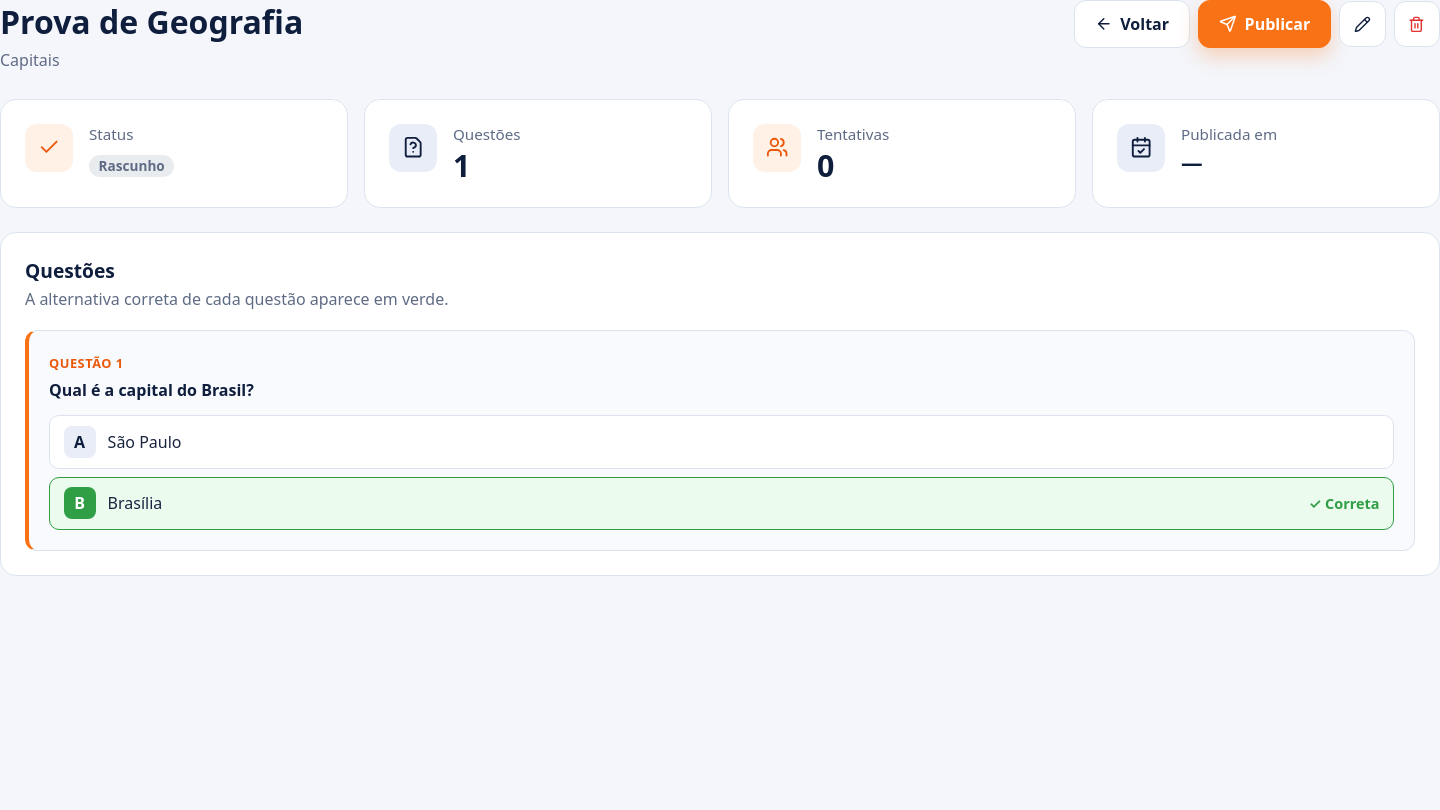
Test case: ExamDetailView › keeps the exam visible and shows the error when deletion fails
The image size is (1440, 810).
Click the button with class "danger": [1417, 24] box [1394, 1, 1439, 47]
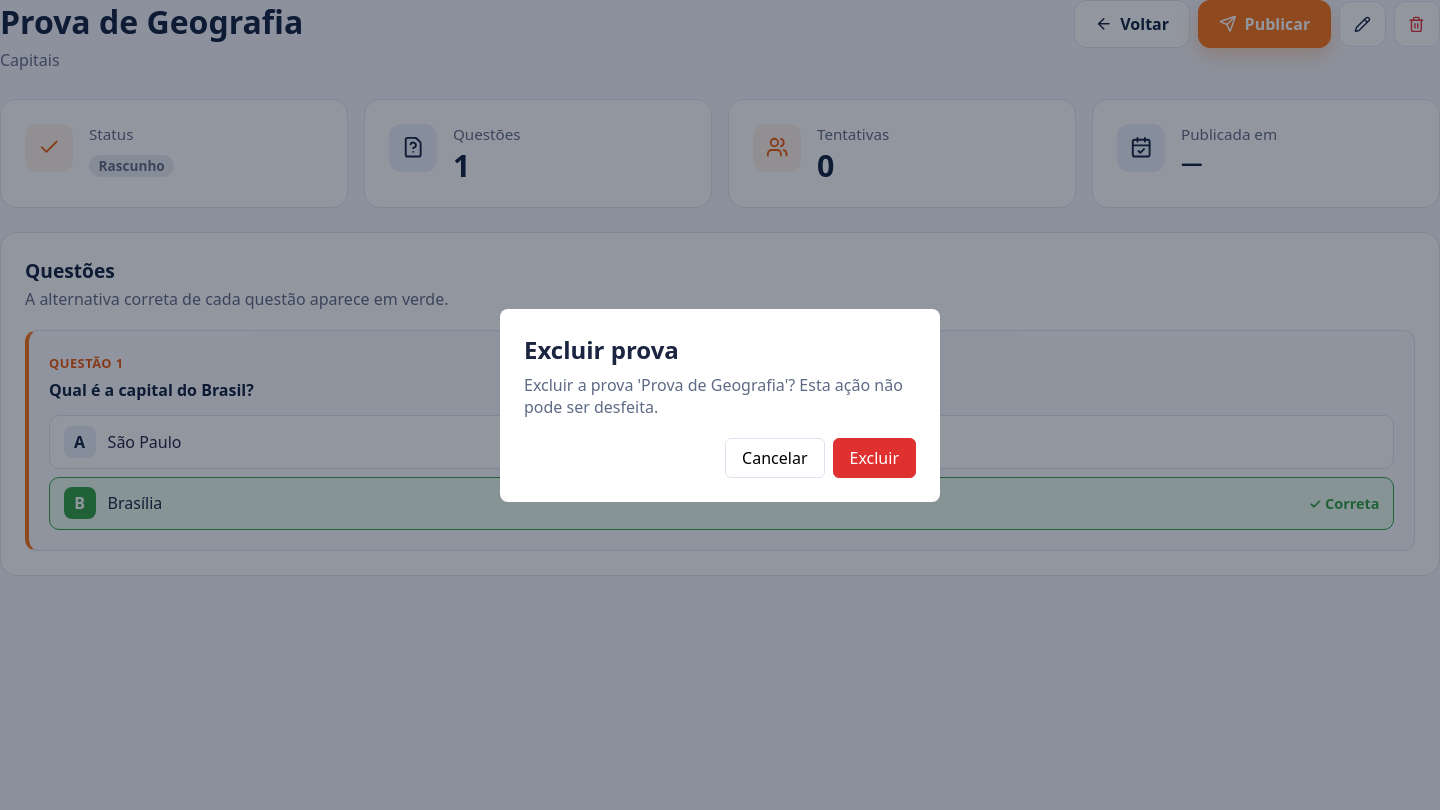
Click the button with class "dialog__confirm": [874, 458] box [832, 438, 916, 478]
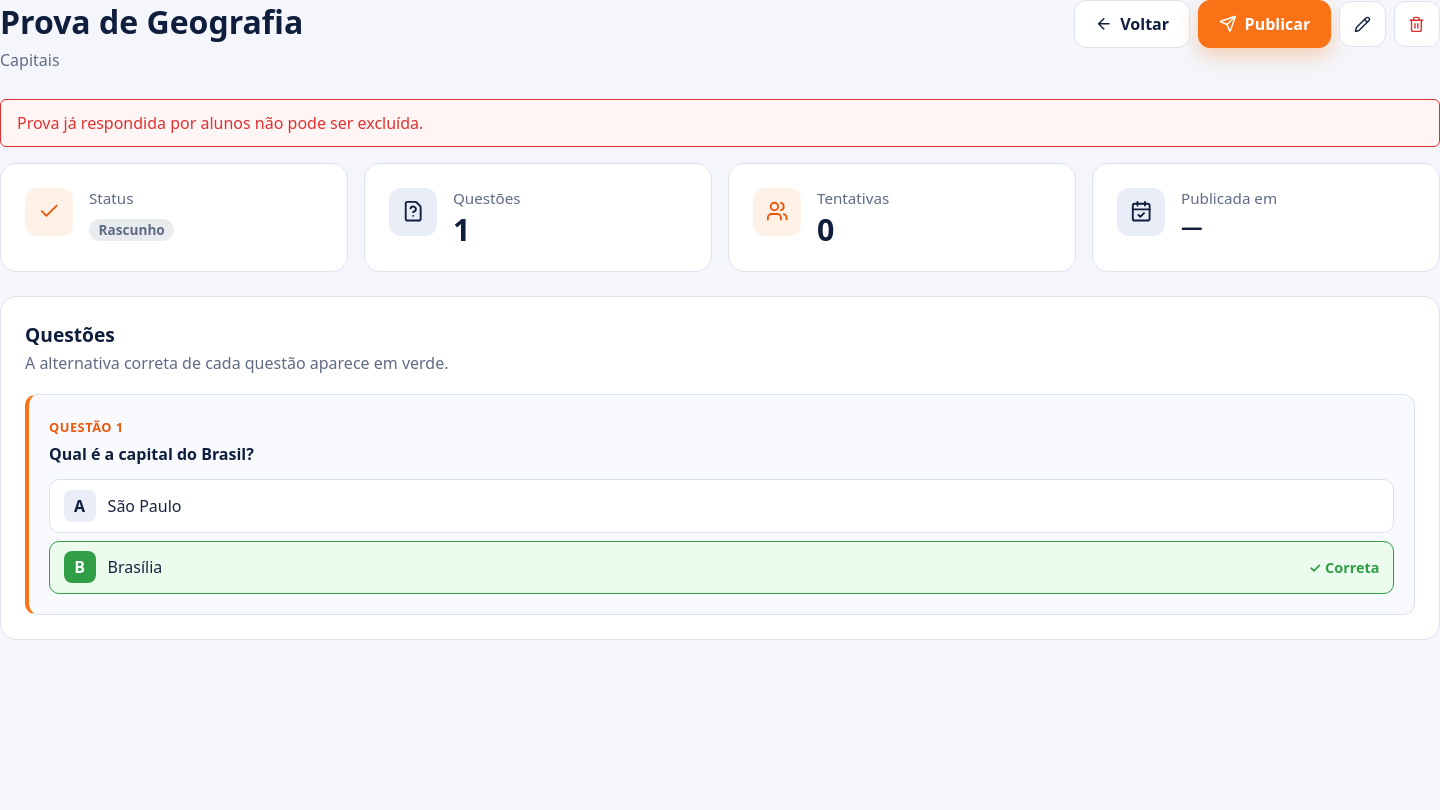
Expected: the heading "Prova de Geografia" is shown, [0, 0, 303, 43]
Now the text "Prova já respondida por alunos não pode ser excluída." is shown, box [0, 99, 1439, 147]
